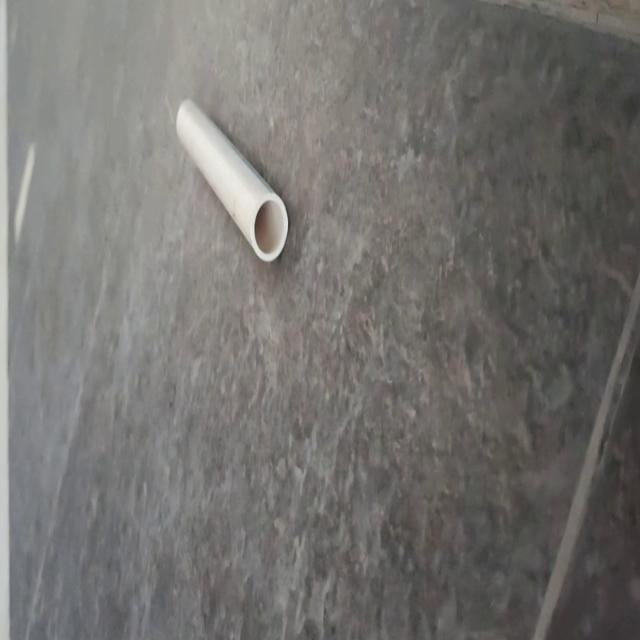Cube: (175, 95, 289, 264)
